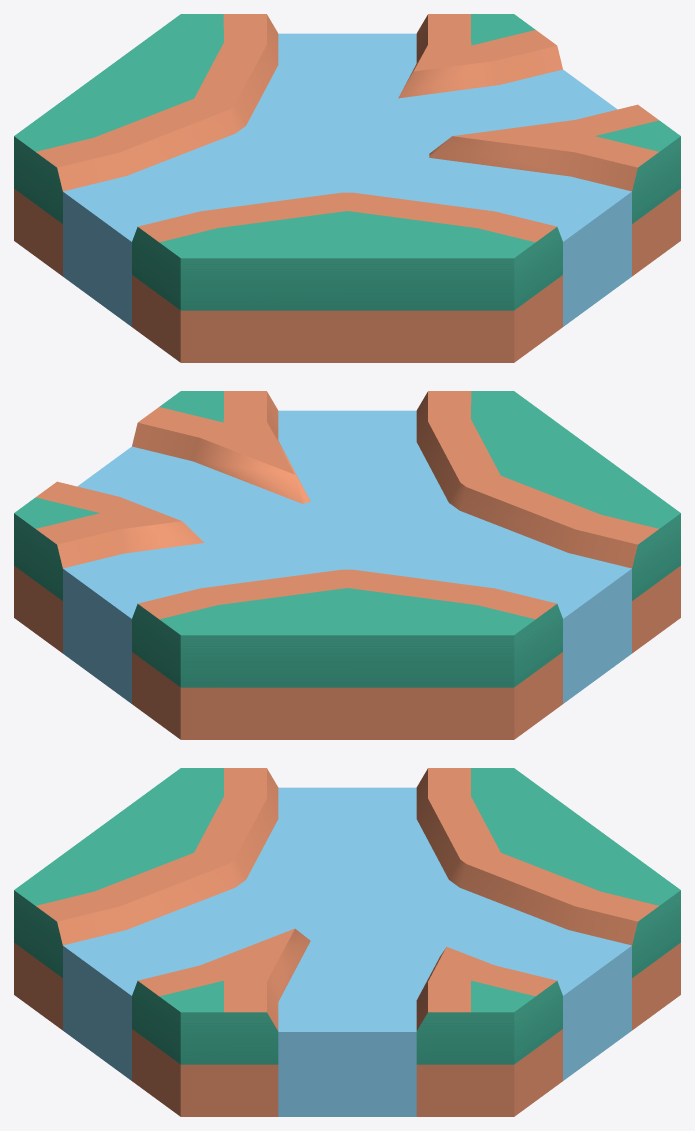
The model's file is river-intersection-d.glb.
The picture shows the model from 3 angles, top to bottom: view 1: azimuth 30°, elevation 25°; view 2: azimuth 150°, elevation 25°; view 3: azimuth 270°, elevation 25°; orthographic projection.
Parts seen in each view (by area): view 1: river-intersectionD; view 2: river-intersectionD; view 3: river-intersectionD.
Part boxes in pixels (x1,y1,x2,y2): river-intersectionD: (14,14,680,362); river-intersectionD: (14,391,680,739); river-intersectionD: (14,768,680,1116).
Size of the model in its own units: 1 by 0.2 by 1.15.
Materials: 1 (1 with a texture image).
